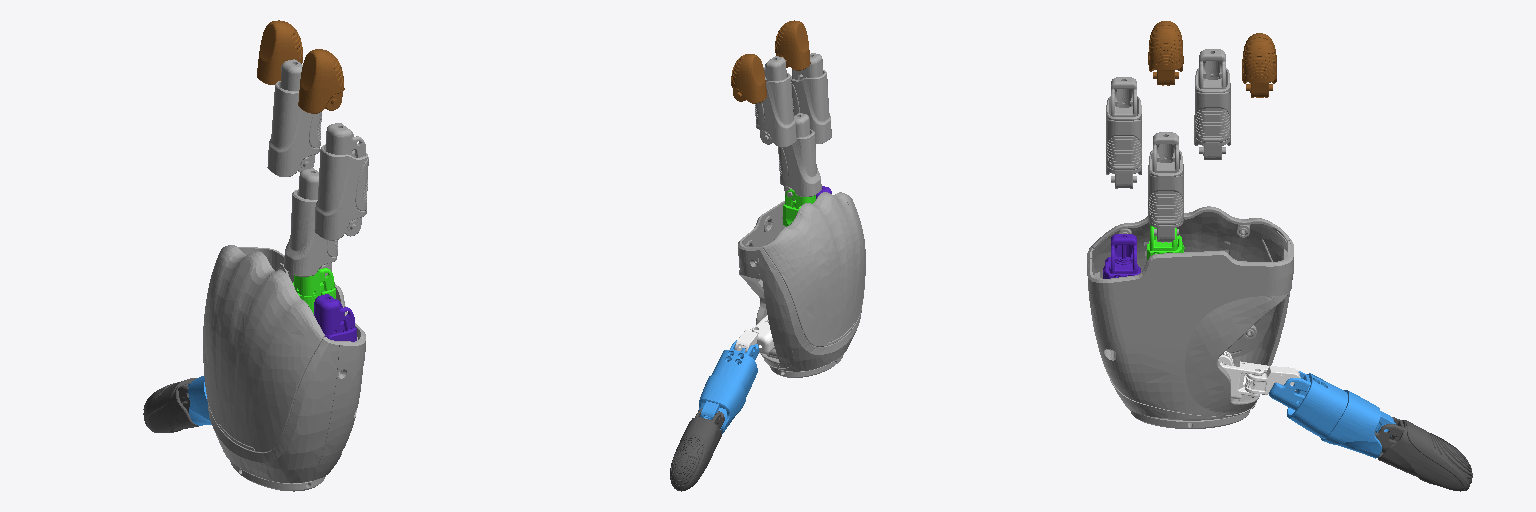
URDF robot description (linkerhand_O30i_right.urdf):
<?xml version='1.0' encoding='utf-8'?>
<robot name="linkerhand_O30i_right.urdf">
  <!-- 2026-10-18: thumb-only five-pose photo/contact fit. Zero offsets are baked into origins; SDK 0..255 remains linear in joint limits. Four fingers unchanged. Unseen full-stroke endpoints require hardware validation. -->
  <link name="hand_base_link">
    <inertial>
      <origin xyz="-0.000205958913345674 -0.00361882780107264 0.0468643173993171" rpy="0 0 0" />
      <mass value="0.14359" />
      <inertia ixx="1.88028388E-04" ixy="-1.72092982E-06" ixz="-1.04409274E-05" iyy="9.30828141E-05" iyz="-7.82620080E-06" izz="1.07409180E-04" />
    </inertial>
    <visual>
      <origin xyz="0 0 0" rpy="0 0 0" />
      <geometry>
        <mesh filename="meshes/hand_base_link.STL" />
      </geometry>
      <material name="">
        <color rgba="0.6902 0.6902 0.6902 1" />
      </material>
    </visual>
    <collision>
      <origin xyz="0 0 0" rpy="0 0 0" />
      <geometry>
        <mesh filename="meshes/hand_base_link.STL" />
      </geometry>
    </collision>
  </link>
  <link name="thumb_metacarpals_base1">
    <inertial>
      <origin xyz="-0.010568785207338 0.00680389844480997 -0.00250096605293726" rpy="0 0 0" />
      <mass value="0.0265" />
      <inertia ixx="1.7467491929e-06" ixy="-2.9104436794e-07" ixz="-1.8568012190e-07" iyy="1.8654637315e-06" iyz="-2.9174054645e-07" izz="2.5335744004e-06" />
    </inertial>
    <visual>
      <origin xyz="0 0 0" rpy="0 0 0" />
      <geometry>
        <mesh filename="meshes/thumb_metacarpals_base1.STL" />
      </geometry>
      <material name="">
        <color rgba="1 1 1 1" />
      </material>
    </visual>
    <collision>
      <origin xyz="0 0 0" rpy="0 0 0" />
      <geometry>
        <mesh filename="meshes/thumb_metacarpals_base1.STL" />
      </geometry>
    </collision>
  </link>
  <joint name="thumb_cmc_roll" type="revolute">
    <origin xyz="0.01686319437684144 0.01354180663726139 0.02429326954078007" rpy="-0.1528711128406792 -0.07414071178273396 -0.007139808791404023" />
    <parent link="hand_base_link" />
    <child link="thumb_metacarpals_base1" />
    <axis xyz="1 0 0" />
    <limit lower="0" upper="0.969565192376618" effort="0.5" velocity="1.7052" />
  </joint>
  <link name="thumb_metacarpals_base2">
    <inertial>
      <origin xyz="0.000380684134119496 -0.00211738728269809 0.00657934524730193" rpy="0 0 0" />
      <mass value="0.0355" />
      <inertia ixx="1.3100602323e-06" ixy="-2.6896858160e-09" ixz="7.2091170680e-09" iyy="1.2087410902e-06" iyz="2.5929588126e-07" izz="5.0771300324e-07" />
    </inertial>
    <visual>
      <origin xyz="0 0 0" rpy="0 0 0" />
      <geometry>
        <mesh filename="meshes/thumb_metacarpals_base2.STL" />
      </geometry>
      <material name="">
        <color rgba="1 1 1 1" />
      </material>
    </visual>
    <collision>
      <origin xyz="0 0 0" rpy="0 0 0" />
      <geometry>
        <mesh filename="meshes/thumb_metacarpals_base2.STL" />
      </geometry>
    </collision>
  </link>
  <joint name="thumb_cmc_yaw" type="revolute">
    <origin xyz="-0.00215 0.015238 5e-05" rpy="-1.5477041670264 -0.01743208899764515 0.1013915928083299" />
    <parent link="thumb_metacarpals_base1" />
    <child link="thumb_metacarpals_base2" />
    <axis xyz="0 1 0" />
    <limit lower="0" upper="2.013907913050712" effort="0.5" velocity="1.871" />
  </joint>
  <link name="thumb_proximal">
    <inertial>
      <origin xyz="3.77660515630748E-06 0.00453807341892944 0.0244232058201643" rpy="0 0 0" />
      <mass value="0.0485" />
      <inertia ixx="7.9213419017e-06" ixy="6.3547157324e-10" ixz="9.3426941108e-10" iyy="7.2526849972e-06" iyz="2.9039766095e-07" izz="4.3684910168e-06" />
    </inertial>
    <visual>
      <origin xyz="0 0 0" rpy="0 0 0" />
      <geometry>
        <mesh filename="meshes/thumb_proximal.STL" />
      </geometry>
      <material name="">
        <color rgba="0.333333333333333 0.690196078431373 1 1" />
      </material>
    </visual>
    <collision>
      <origin xyz="0 0 0" rpy="0 0 0" />
      <geometry>
        <mesh filename="meshes/thumb_proximal.STL" />
      </geometry>
    </collision>
  </link>
  <joint name="thumb_mcp" type="revolute">
    <origin xyz="0.00045 -0.0029437 0.015539" rpy="-0.3796093027174183 0 0" />
    <parent link="thumb_metacarpals_base2" />
    <child link="thumb_proximal" />
    <axis xyz="1 0 0" />
    <limit lower="0" upper="1.644228126223763" effort="0.5" velocity="2.3126" />
  </joint>
  <link name="thumb_distal">
    <inertial>
      <origin xyz="5.2796E-06 0.0045592 0.020933" rpy="0 0 0" />
      <mass value="0.0291" />
      <inertia ixx="3.5639491678e-06" ixy="1.2385839877e-10" ixz="-8.3144418980e-11" iyy="3.6415178270e-06" iyz="-2.5032975166e-07" izz="1.5193398956e-06" />
    </inertial>
    <visual>
      <origin xyz="0 0 0" rpy="0 0 0" />
      <geometry>
        <mesh filename="meshes/thumb_distal.STL" />
      </geometry>
      <material name="">
        <color rgba="0.4 0.4 0.4 1" />
      </material>
    </visual>
    <collision>
      <origin xyz="0 0 0" rpy="0 0 0" />
      <geometry>
        <mesh filename="meshes/thumb_distal.STL" />
      </geometry>
    </collision>
  </link>
  <joint name="thumb_ip" type="revolute">
    <origin xyz="0 0.0001447 0.048557" rpy="0.02124385637982909 0 0" />
    <parent link="thumb_proximal" />
    <child link="thumb_distal" />
    <axis xyz="1 0 0" />
    <limit lower="0" upper="1.350226641244871" effort="0.5" velocity="1.9897" />
  </joint>
  <link name="index_metacarpals">
    <inertial>
      <origin xyz="-0.0106040258094052 -5.13953894481882E-05 -0.00136151819442749" rpy="0 0 0" />
      <mass value="0.0588" />
      <inertia ixx="4.0339E-06" ixy="1.4821E-07" ixz="-1.1267E-07" iyy="4.7173E-06" iyz="4.0633E-09" izz="2.2812E-06" />
    </inertial>
    <visual>
      <origin xyz="0 0 0" rpy="0 0 0" />
      <geometry>
        <mesh filename="meshes/index_metacarpals.STL" />
      </geometry>
      <material name="">
        <color rgba="0.286274509803922 1 0.196078431372549 1" />
      </material>
    </visual>
    <collision>
      <origin xyz="0 0 0" rpy="0 0 0" />
      <geometry>
        <mesh filename="meshes/index_metacarpals.STL" />
      </geometry>
    </collision>
  </link>
  <joint name="index_mcp_roll" type="revolute">
    <origin xyz="0.018722 0.029679 0.075158" rpy="0 0 0" />
    <parent link="hand_base_link" />
    <child link="index_metacarpals" />
    <axis xyz="1 0 0" />
    <limit lower="-0.489063104038013" upper="0" effort="0.5" velocity="1.6057" />
  </joint>
  <link name="index_proximal">
    <inertial>
      <origin xyz="-0.0043709621275504 2.16385333159826E-05 0.0216063163265681" rpy="0 0 0" />
      <mass value="0.0287" />
      <inertia ixx="2.6023E-06" ixy="4.5529E-10" ixz="-9.6076E-08" iyy="2.7888E-06" iyz="-6.9341E-10" izz="1.2550E-06" />
    </inertial>
    <visual>
      <origin xyz="0 0 0" rpy="0 0 0" />
      <geometry>
        <mesh filename="meshes/index_proximal.STL" />
      </geometry>
      <material name="">
        <color rgba="0.690196078431373 0.690196078431373 0.690196078431373 1" />
      </material>
    </visual>
    <collision>
      <origin xyz="0 0 0" rpy="0 0 0" />
      <geometry>
        <mesh filename="meshes/index_proximal.STL" />
      </geometry>
    </collision>
  </link>
  <joint name="index_mcp_pitch" type="revolute">
    <origin xyz="-0.00475 0.00059587 0.016238" rpy="0 0.132720543622402 0" />
    <parent link="index_metacarpals" />
    <child link="index_proximal" />
    <axis xyz="0 1 0" />
    <limit lower="0" upper="1.63746311220812" effort="0.5" velocity="2.3876" />
  </joint>
  <link name="index_middle">
    <inertial>
      <origin xyz="-0.00412829489374895 4.33935129848899E-05 0.0217078554898162" rpy="0 0 0" />
      <mass value="0.029" />
      <inertia ixx="2.8996E-06" ixy="4.2867E-10" ixz="-3.1433E-08" iyy="3.0975E-06" iyz="2.9280E-10" izz="1.2654E-06" />
    </inertial>
    <visual>
      <origin xyz="0 0 0" rpy="0 0 0" />
      <geometry>
        <mesh filename="meshes/index_middle.STL" />
      </geometry>
      <material name="">
        <color rgba="0.690196078431373 0.690196078431373 0.690196078431373 1" />
      </material>
    </visual>
    <collision>
      <origin xyz="0 0 0" rpy="0 0 0" />
      <geometry>
        <mesh filename="meshes/index_middle.STL" />
      </geometry>
    </collision>
  </link>
  <joint name="index_pip" type="revolute">
    <origin xyz="0 0 0.039681" rpy="0 -0.0434437974292103 0" />
    <parent link="index_proximal" />
    <child link="index_middle" />
    <axis xyz="0 1 0" />
    <limit lower="0" upper="1.58587631576265" effort="0.5" velocity="1.9949" />
  </joint>
  <link name="index_distal">
    <inertial>
      <origin xyz="-0.00405260592933677 2.92010642392003E-05 0.0113571507781909" rpy="0 0 0" />
      <mass value="0.006" />
      <inertia ixx="2.9730E-07" ixy="-6.2547E-12" ixz="-1.6758E-08" iyy="3.1683E-07" iyz="6.8823E-12" izz="2.0775E-07" />
    </inertial>
    <visual>
      <origin xyz="0 0 0" rpy="0 0 0" />
      <geometry>
        <mesh filename="meshes/index_distal.STL" />
      </geometry>
      <material name="">
        <color rgba="0.6 0.4 0.2 1" />
      </material>
    </visual>
    <collision>
      <origin xyz="0 0 0" rpy="0 0 0" />
      <geometry>
        <mesh filename="meshes/index_distal.STL" />
      </geometry>
    </collision>
  </link>
  <joint name="index_dip" type="revolute">
    <origin xyz="0 0 0.040244" rpy="0 0 0" />
    <parent link="index_middle" />
    <child link="index_distal" />
    <axis xyz="0 1 0" />
    <limit lower="0" upper="1.59818252687602" effort="0.5" velocity="2.1869" />
  </joint>
  <link name="middle_metacarpals">
    <inertial>
      <origin xyz="-0.0106040258093801 -5.13953895135309E-05 -0.00136151819462214" rpy="0 0 0" />
      <mass value="0.0588" />
      <inertia ixx="4.0339E-06" ixy="1.4821E-07" ixz="-1.1267E-07" iyy="4.7173E-06" iyz="4.0633E-09" izz="2.2812E-06" />
    </inertial>
    <visual>
      <origin xyz="0 0 0" rpy="0 0 0" />
      <geometry>
        <mesh filename="meshes/middle_metacarpals.STL" />
      </geometry>
      <material name="">
        <color rgba="0.4 0.2 0.8 1" />
      </material>
    </visual>
    <collision>
      <origin xyz="0 0 0" rpy="0 0 0" />
      <geometry>
        <mesh filename="meshes/middle_metacarpals.STL" />
      </geometry>
    </collision>
  </link>
  <joint name="middle_mcp_roll" type="revolute">
    <origin xyz="0.018722 0.0086937 0.081586" rpy="0 0 0" />
    <parent link="hand_base_link" />
    <child link="middle_metacarpals" />
    <axis xyz="1 0 0" />
    <limit lower="-0.534273188787818" upper="0.166189293512357" effort="0.5" velocity="1.6074" />
  </joint>
  <link name="middle_proximal">
    <inertial>
      <origin xyz="-0.00437096211453991 2.16385377681651E-05 0.021606316263903" rpy="0 0 0" />
      <mass value="0.0287" />
      <inertia ixx="2.6023E-06" ixy="4.5529E-10" ixz="-9.6076E-08" iyy="2.7888E-06" iyz="-6.9341E-10" izz="1.2550E-06" />
    </inertial>
    <visual>
      <origin xyz="0 0 0" rpy="0 0 0" />
      <geometry>
        <mesh filename="meshes/middle_proximal.STL" />
      </geometry>
      <material name="">
        <color rgba="0.690196078431373 0.690196078431373 0.690196078431373 1" />
      </material>
    </visual>
    <collision>
      <origin xyz="0 0 0" rpy="0 0 0" />
      <geometry>
        <mesh filename="meshes/middle_proximal.STL" />
      </geometry>
    </collision>
  </link>
  <joint name="middle_mcp_pitch" type="revolute">
    <origin xyz="-0.00475 0.00059587 0.016238" rpy="0 0.0888970641288462 0" />
    <parent link="middle_metacarpals" />
    <child link="middle_proximal" />
    <axis xyz="0 1 0" />
    <limit lower="0" upper="1.70966991193413" effort="0.5" velocity="2.3876" />
  </joint>
  <link name="middle_middle">
    <inertial>
      <origin xyz="-0.00416491190892752 4.53802720945468E-05 0.0183968023027694" rpy="0 0 0" />
      <mass value="0.029" />
      <inertia ixx="3.2385E-06" ixy="7.7206E-12" ixz="5.0460E-08" iyy="3.4426E-06" iyz="-1.0149E-10" izz="1.3101E-06" />
    </inertial>
    <visual>
      <origin xyz="0 0 0" rpy="0 0 0" />
      <geometry>
        <mesh filename="meshes/middle_middle.STL" />
      </geometry>
      <material name="">
        <color rgba="0.690196078431373 0.690196078431373 0.690196078431373 1" />
      </material>
    </visual>
    <collision>
      <origin xyz="0 0 0" rpy="0 0 0" />
      <geometry>
        <mesh filename="meshes/middle_middle.STL" />
      </geometry>
    </collision>
  </link>
  <joint name="middle_pip" type="revolute">
    <origin xyz="0 0 0.039681" rpy="0 -0.0229603897007753 0" />
    <parent link="middle_proximal" />
    <child link="middle_middle" />
    <axis xyz="0 1 0" />
    <limit lower="0" upper="1.57618217208514" effort="0.5" velocity="1.9949" />
  </joint>
  <link name="middle_distal">
    <inertial>
      <origin xyz="-0.0040526080066767 2.92015397774141E-05 0.0113571741521581" rpy="0 0 0" />
      <mass value="0.006" />
      <inertia ixx="2.9730E-07" ixy="-6.1598E-12" ixz="-1.6758E-08" iyy="3.1683E-07" iyz="6.9876E-12" izz="2.0775E-07" />
    </inertial>
    <visual>
      <origin xyz="0 0 0" rpy="0 0 0" />
      <geometry>
        <mesh filename="meshes/middle_distal.STL" />
      </geometry>
      <material name="">
        <color rgba="0.6 0.4 0.2 1" />
      </material>
    </visual>
    <collision>
      <origin xyz="0 0 0" rpy="0 0 0" />
      <geometry>
        <mesh filename="meshes/middle_distal.STL" />
      </geometry>
    </collision>
  </link>
  <joint name="middle_dip" type="revolute">
    <origin xyz="0 0 0.040244" rpy="0 0 0" />
    <parent link="middle_middle" />
    <child link="middle_distal" />
    <axis xyz="0 1 0" />
    <limit lower="0" upper="1.58769158285047" effort="0.5" velocity="2.1869" />
  </joint>
  <link name="ring_metacarpals">
    <inertial>
      <origin xyz="-0.0106040258039409 -5.13953875669396E-05 -0.00136151819474453" rpy="0 0 0" />
      <mass value="0.0588" />
      <inertia ixx="4.0339E-06" ixy="1.4821E-07" ixz="-1.1267E-07" iyy="4.7173E-06" iyz="4.0633E-09" izz="2.2812E-06" />
    </inertial>
    <visual>
      <origin xyz="0 0 0" rpy="0 0 0" />
      <geometry>
        <mesh filename="meshes/ring_metacarpals.STL" />
      </geometry>
      <material name="">
        <color rgba="0.286274509803922 1 0.196078431372549 1" />
      </material>
    </visual>
    <collision>
      <origin xyz="0 0 0" rpy="0 0 0" />
      <geometry>
        <mesh filename="meshes/ring_metacarpals.STL" />
      </geometry>
    </collision>
  </link>
  <joint name="ring_mcp_roll" type="revolute">
    <origin xyz="0.018722 -0.012188 0.079218" rpy="0 0 0" />
    <parent link="hand_base_link" />
    <child link="ring_metacarpals" />
    <axis xyz="1 0 0" />
    <limit lower="-0.312481559876992" upper="0.264799642906355" effort="0.5" velocity="1.6179" />
  </joint>
  <link name="ring_proximal">
    <inertial>
      <origin xyz="-0.00437096212848108 2.16385332126728E-05 0.0216063163327438" rpy="0 0 0" />
      <mass value="0.0287" />
      <inertia ixx="2.6023E-06" ixy="4.5529E-10" ixz="-9.6076E-08" iyy="2.7888E-06" iyz="-6.9341E-10" izz="1.2550E-06" />
    </inertial>
    <visual>
      <origin xyz="0 0 0" rpy="0 0 0" />
      <geometry>
        <mesh filename="meshes/ring_proximal.STL" />
      </geometry>
      <material name="">
        <color rgba="0.690196078431373 0.690196078431373 0.690196078431373 1" />
      </material>
    </visual>
    <collision>
      <origin xyz="0 0 0" rpy="0 0 0" />
      <geometry>
        <mesh filename="meshes/ring_proximal.STL" />
      </geometry>
    </collision>
  </link>
  <joint name="ring_mcp_pitch" type="revolute">
    <origin xyz="-0.00475 0.00059587 0.016238" rpy="0 0.0662964986876522 0" />
    <parent link="ring_metacarpals" />
    <child link="ring_proximal" />
    <axis xyz="0 1 0" />
    <limit lower="0" upper="1.70230981563413" effort="0.5" velocity="2.3876" />
  </joint>
  <link name="ring_middle">
    <inertial>
      <origin xyz="-0.00416491192838481 4.53802663086568E-05 0.0183968024169422" rpy="0 0 0" />
      <mass value="0.029" />
      <inertia ixx="3.2385E-06" ixy="7.7208E-12" ixz="5.0460E-08" iyy="3.4426E-06" iyz="-1.0149E-10" izz="1.3101E-06" />
    </inertial>
    <visual>
      <origin xyz="0 0 0" rpy="0 0 0" />
      <geometry>
        <mesh filename="meshes/ring_middle.STL" />
      </geometry>
      <material name="">
        <color rgba="0.690196078431373 0.690196078431373 0.690196078431373 1" />
      </material>
    </visual>
    <collision>
      <origin xyz="0 0 0" rpy="0 0 0" />
      <geometry>
        <mesh filename="meshes/ring_middle.STL" />
      </geometry>
    </collision>
  </link>
  <joint name="ring_pip" type="revolute">
    <origin xyz="0 0 0.039681" rpy="0 -0.00173173064757615 0" />
    <parent link="ring_proximal" />
    <child link="ring_middle" />
    <axis xyz="0 1 0" />
    <limit lower="0" upper="1.60012880743153" effort="0.5" velocity="1.9949" />
  </joint>
  <link name="ring_distal">
    <inertial>
      <origin xyz="-0.00405260742568393 2.91984265882485E-05 0.0113571618103905" rpy="0 0 0" />
      <mass value="0.006" />
      <inertia ixx="2.9730E-07" ixy="-6.3645E-12" ixz="-1.6758E-08" iyy="3.1683E-07" iyz="6.8842E-12" izz="2.0775E-07" />
    </inertial>
    <visual>
      <origin xyz="0 0 0" rpy="0 0 0" />
      <geometry>
        <mesh filename="meshes/ring_distal.STL" />
      </geometry>
      <material name="">
        <color rgba="0.6 0.4 0.2 1" />
      </material>
    </visual>
    <collision>
      <origin xyz="0 0 0" rpy="0 0 0" />
      <geometry>
        <mesh filename="meshes/ring_distal.STL" />
      </geometry>
    </collision>
  </link>
  <joint name="ring_dip" type="revolute">
    <origin xyz="0 0 0.040244" rpy="0 0 0" />
    <parent link="ring_middle" />
    <child link="ring_distal" />
    <axis xyz="0 1 0" />
    <limit lower="0" upper="1.64670287164736" effort="0.5" velocity="2.1869" />
  </joint>
  <link name="pinky_metacarpals">
    <inertial>
      <origin xyz="-0.0106040258039376 -5.13953875944106E-05 -0.00136151819476814" rpy="0 0 0" />
      <mass value="0.0588" />
      <inertia ixx="4.0339E-06" ixy="1.4821E-07" ixz="-1.1267E-07" iyy="4.7173E-06" iyz="4.0633E-09" izz="2.2812E-06" />
    </inertial>
    <visual>
      <origin xyz="0 0 0" rpy="0 0 0" />
      <geometry>
        <mesh filename="meshes/pinky_metacarpals.STL" />
      </geometry>
      <material name="">
        <color rgba="0.4 0.2 0.8 1" />
      </material>
    </visual>
    <collision>
      <origin xyz="0 0 0" rpy="0 0 0" />
      <geometry>
        <mesh filename="meshes/pinky_metacarpals.STL" />
      </geometry>
    </collision>
  </link>
  <joint name="pinky_mcp_roll" type="revolute">
    <origin xyz="0.018722 -0.030927 0.067761" rpy="0 0 0" />
    <parent link="hand_base_link" />
    <child link="pinky_metacarpals" />
    <axis xyz="1 0 0" />
    <limit lower="-0.104645842698925" upper="0.310256874097415" effort="0.5" velocity="1.4748" />
  </joint>
  <link name="pinky_proximal">
    <inertial>
      <origin xyz="-0.00437096211497169 2.16385374772129E-05 0.0216063162659534" rpy="0 0 0" />
      <mass value="0.0287" />
      <inertia ixx="2.6023E-06" ixy="4.5529E-10" ixz="-9.6076E-08" iyy="2.7888E-06" iyz="-6.9341E-10" izz="1.2550E-06" />
    </inertial>
    <visual>
      <origin xyz="0 0 0" rpy="0 0 0" />
      <geometry>
        <mesh filename="meshes/pinky_proximal.STL" />
      </geometry>
      <material name="">
        <color rgba="0.690196078431373 0.690196078431373 0.690196078431373 1" />
      </material>
    </visual>
    <collision>
      <origin xyz="0 0 0" rpy="0 0 0" />
      <geometry>
        <mesh filename="meshes/pinky_proximal.STL" />
      </geometry>
    </collision>
  </link>
  <joint name="pinky_mcp_pitch" type="revolute">
    <origin xyz="-0.00475 0.00059587 0.016238" rpy="0 0.0995925507321629 0" />
    <parent link="pinky_metacarpals" />
    <child link="pinky_proximal" />
    <axis xyz="0 1 0" />
    <limit lower="0" upper="1.70035500744408" effort="0.5" velocity="2.3876" />
  </joint>
  <link name="pinky_middle">
    <inertial>
      <origin xyz="-0.00412829488912096 4.33935004629793E-05 0.0217078554135159" rpy="0 0 0" />
      <mass value="0.029" />
      <inertia ixx="2.8996E-06" ixy="4.2867E-10" ixz="-3.1433E-08" iyy="3.0975E-06" iyz="2.9280E-10" izz="1.2654E-06" />
    </inertial>
    <visual>
      <origin xyz="0 0 0" rpy="0 0 0" />
      <geometry>
        <mesh filename="meshes/pinky_middle.STL" />
      </geometry>
      <material name="">
        <color rgba="0.690196078431373 0.690196078431373 0.690196078431373 1" />
      </material>
    </visual>
    <collision>
      <origin xyz="0 0 0" rpy="0 0 0" />
      <geometry>
        <mesh filename="meshes/pinky_middle.STL" />
      </geometry>
    </collision>
  </link>
  <joint name="pinky_pip" type="revolute">
    <origin xyz="0 0 0.039681" rpy="0 -0.0537832380002974 0" />
    <parent link="pinky_proximal" />
    <child link="pinky_middle" />
    <axis xyz="0 1 0" />
    <limit lower="0" upper="1.59051065570363" effort="0.5" velocity="1.9949" />
  </joint>
  <link name="pinky_distal">
    <inertial>
      <origin xyz="-0.00405259886775996 2.91983586506936E-05 0.0113571520424041" rpy="0 0 0" />
      <mass value="0.006" />
      <inertia ixx="2.9730E-07" ixy="-6.1745E-12" ixz="-1.6757E-08" iyy="3.1683E-07" iyz="6.8171E-12" izz="2.0775E-07" />
    </inertial>
    <visual>
      <origin xyz="0 0 0" rpy="0 0 0" />
      <geometry>
        <mesh filename="meshes/pinky_distal.STL" />
      </geometry>
      <material name="">
        <color rgba="0.6 0.4 0.2 1" />
      </material>
    </visual>
    <collision>
      <origin xyz="0 0 0" rpy="0 0 0" />
      <geometry>
        <mesh filename="meshes/pinky_distal.STL" />
      </geometry>
    </collision>
  </link>
  <joint name="pinky_dip" type="revolute">
    <origin xyz="0 0 0.040244" rpy="0 0 0" />
    <parent link="pinky_middle" />
    <child link="pinky_distal" />
    <axis xyz="0 1 0" />
    <limit lower="0" upper="1.66504401081645" effort="0.5" velocity="2.1869" />
  </joint>
</robot>

--- Facts derived from the render (not from the file) ---
Views: 3 orthographic renders of the robot side by side, from view 1: azimuth 30°, elevation 25°; view 2: azimuth 150°, elevation 25°; view 3: azimuth 270°, elevation 25°.
Model linkerhand_O30i_right.urdf with 21 links and 20 joints (20 revolute), rooted at hand_base_link, posed all joints at 0.
Links seen in each view (by area): view 1: hand_base_link, pinky_middle, middle_middle, ring_proximal, ring_distal, thumb_distal, index_distal, pinky_metacarpals, ring_metacarpals, thumb_proximal; view 2: hand_base_link, thumb_proximal, middle_middle, thumb_distal, ring_proximal, pinky_middle, index_distal, ring_distal, ring_metacarpals; view 3: hand_base_link, thumb_proximal, thumb_distal, middle_middle, pinky_middle, ring_proximal, index_distal, ring_distal, pinky_metacarpals, thumb_metacarpals_base1, thumb_metacarpals_base2, ring_metacarpals.
Boxes of the visible links, x1=… form: hand_base_link: x1=203, y1=245, x2=365, y2=491; pinky_middle: x1=314, y1=123, x2=368, y2=240; middle_middle: x1=267, y1=59, x2=321, y2=176; ring_proximal: x1=284, y1=168, x2=338, y2=276; ring_distal: x1=298, y1=49, x2=344, y2=113; thumb_distal: x1=143, y1=378, x2=198, y2=432; index_distal: x1=257, y1=20, x2=302, y2=84; pinky_metacarpals: x1=314, y1=294, x2=356, y2=341; ring_metacarpals: x1=293, y1=268, x2=335, y2=313; thumb_proximal: x1=188, y1=376, x2=211, y2=425; hand_base_link: x1=738, y1=192, x2=865, y2=377; thumb_proximal: x1=698, y1=340, x2=759, y2=433; middle_middle: x1=755, y1=56, x2=796, y2=147; thumb_distal: x1=670, y1=408, x2=724, y2=491; ring_proximal: x1=778, y1=113, x2=821, y2=200; pinky_middle: x1=791, y1=53, x2=831, y2=143; index_distal: x1=731, y1=54, x2=766, y2=103; ring_distal: x1=775, y1=20, x2=810, y2=70; ring_metacarpals: x1=783, y1=189, x2=815, y2=226; hand_base_link: x1=1087, y1=206, x2=1293, y2=428; thumb_proximal: x1=1269, y1=371, x2=1395, y2=458; thumb_distal: x1=1375, y1=417, x2=1472, y2=491; middle_middle: x1=1194, y1=49, x2=1230, y2=159; pinky_middle: x1=1106, y1=77, x2=1141, y2=188; ring_proximal: x1=1148, y1=132, x2=1183, y2=242; index_distal: x1=1242, y1=33, x2=1276, y2=97; ring_distal: x1=1148, y1=21, x2=1183, y2=85; pinky_metacarpals: x1=1103, y1=234, x2=1140, y2=278; thumb_metacarpals_base1: x1=1218, y1=351, x2=1268, y2=399; thumb_metacarpals_base2: x1=1245, y1=366, x2=1300, y2=394; ring_metacarpals: x1=1147, y1=225, x2=1184, y2=259.
Size in the robot's own frame: 0.0519 by 0.1723 by 0.2322 metres.
12 mesh visuals loaded from 21 distinct referenced files (12 binary STL); not drawn: 9 (reference not matched to a file when rendering).
